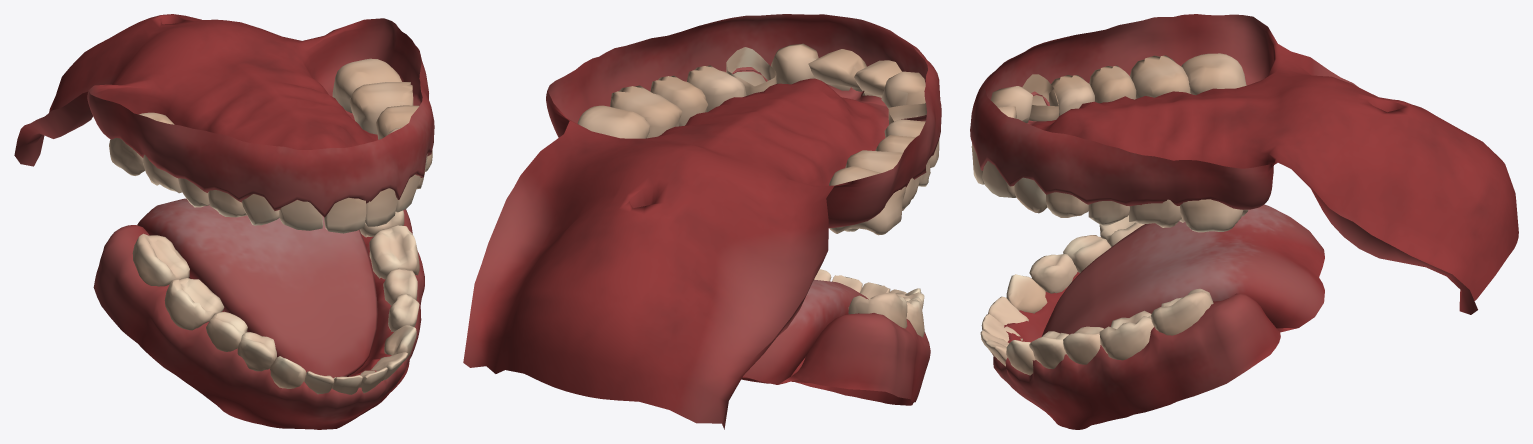
Rendered from mulut.glb.
The picture shows the model from 3 angles, left to right: view 1: azimuth 30°, elevation 25°; view 2: azimuth 150°, elevation 25°; view 3: azimuth 270°, elevation 25°; orthographic projection. The views are drawn at different scales.
Parts seen in each view (by area): view 1: Object_2, Object_3; view 2: Object_3, Object_2; view 3: Object_3, Object_2.
Part boxes in pixels (left/top/right/bottom): Object_2: left=93, top=58, right=432, bottom=429; Object_3: left=14, top=14, right=434, bottom=217; Object_3: left=463, top=14, right=941, bottom=429; Object_2: left=577, top=43, right=939, bottom=405; Object_3: left=970, top=14, right=1518, bottom=314; Object_2: left=971, top=53, right=1324, bottom=429.
Size of the model in its own units: 0.7139 by 0.6942 by 1.07.
Materials: 1 (1 with a texture image).
